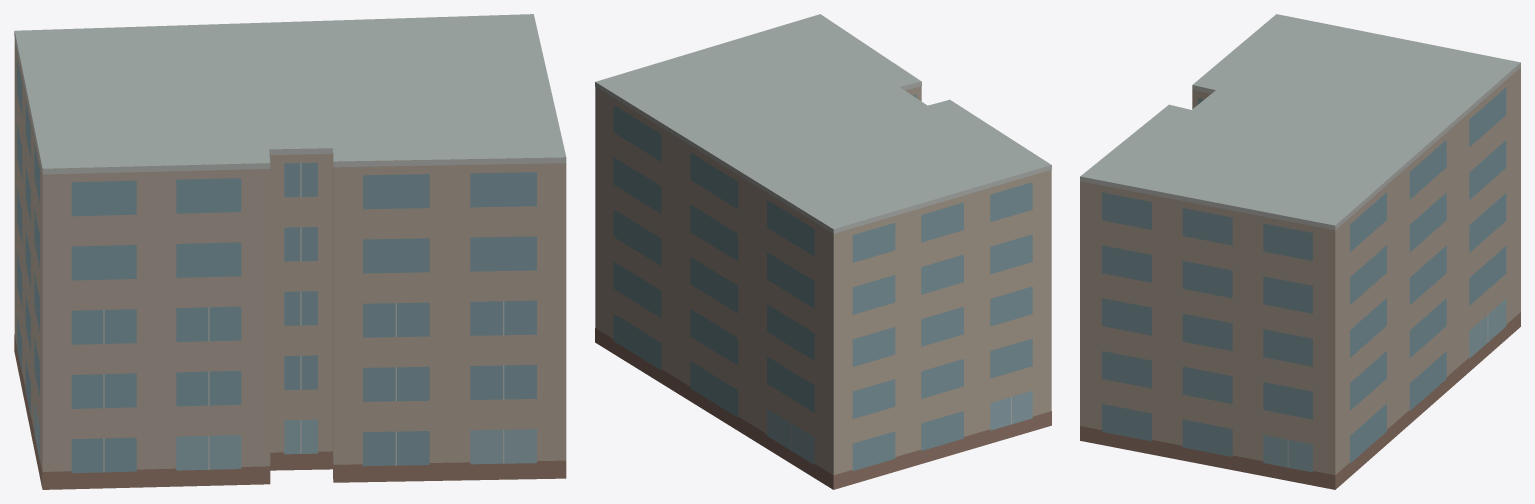
Rendered from survey-upis-33045057.glb.
The picture shows the model from 3 angles, left to right: view 1: azimuth 30°, elevation 25°; view 2: azimuth 150°, elevation 25°; view 3: azimuth 270°, elevation 25°; orthographic projection. The views are drawn at different scales.
Parts seen in each view (by area): view 1: survey-upis-33045057.tmp; view 2: survey-upis-33045057.tmp; view 3: survey-upis-33045057.tmp.
Boxes of the visible parts, bbox=[...] form: survey-upis-33045057.tmp: bbox=[14, 14, 566, 489]; survey-upis-33045057.tmp: bbox=[595, 14, 1051, 489]; survey-upis-33045057.tmp: bbox=[1080, 14, 1520, 489].
Bounding box in the file's own units: 23.45 × 13.65 × 20.64.
